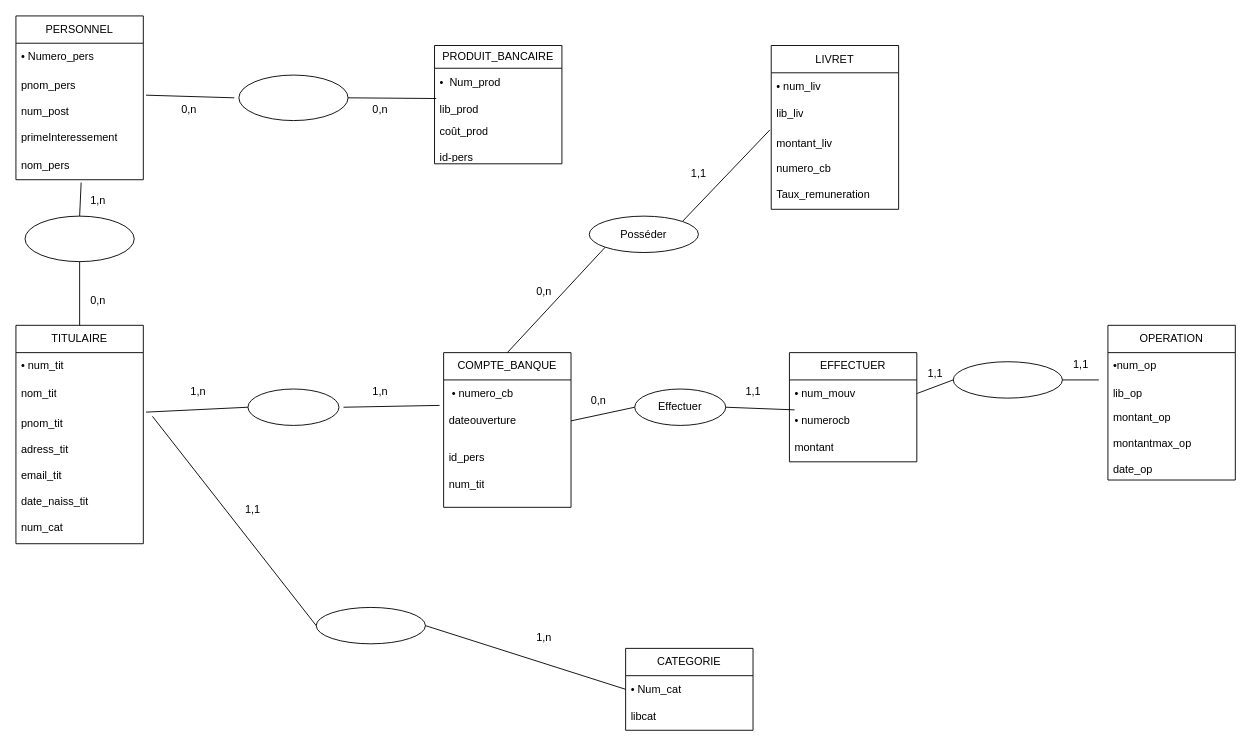
The diagram is 1251 pixels wide and 746 high, and some of its shapes have lost their labels. The shapes that lost their labels are listed below. From the top down, each one's centre as x and y in pixels, then its label:
At (x=293, y=97): "Gérer".
At (x=79, y=238): "Conseiller".
At (x=1007, y=379): "Impliquer".
At (x=293, y=406): "Possèder".
At (x=370, y=625): "Appartenir".
